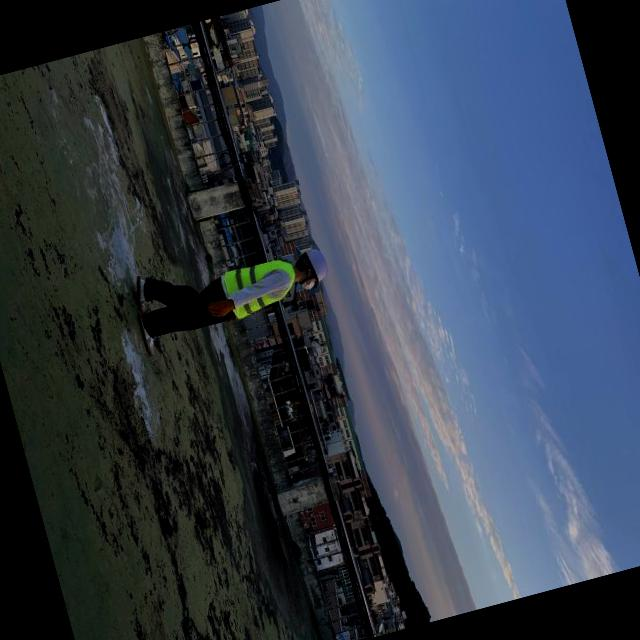vest: (218, 252, 305, 325)
